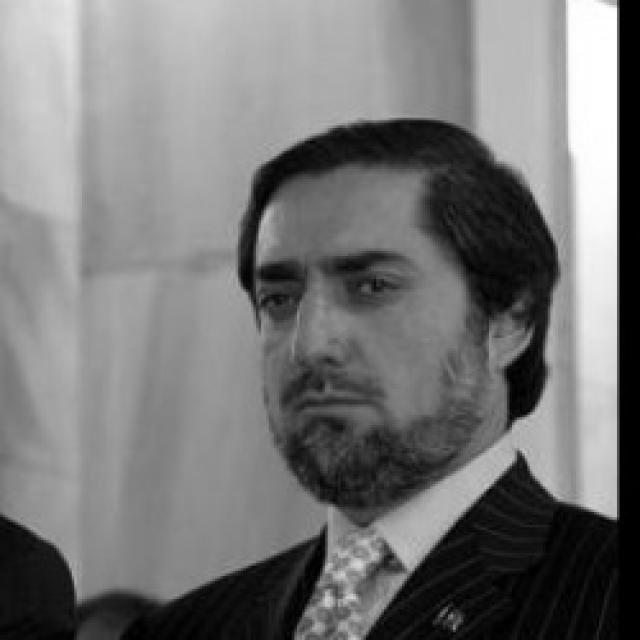real: (251, 162, 497, 497), (251, 251, 440, 325)
